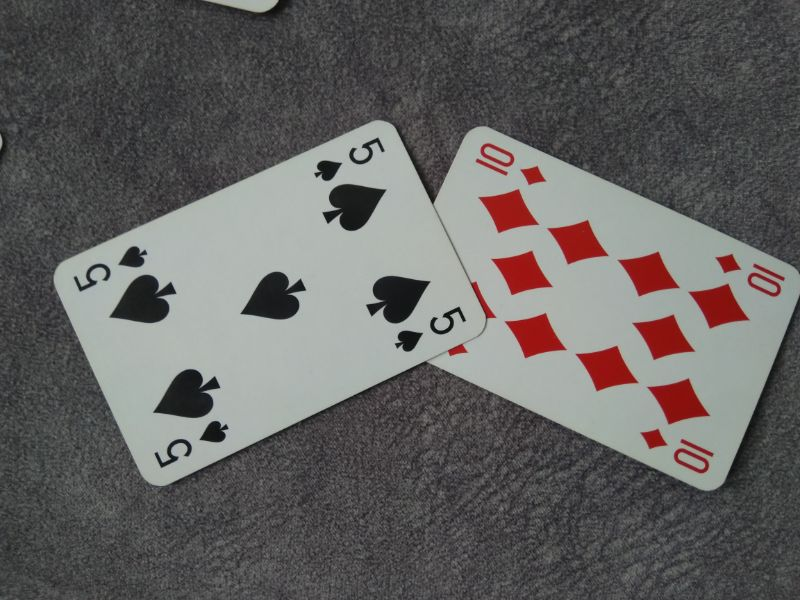5s: (70, 243, 150, 294), (309, 134, 391, 183), (391, 303, 469, 354), (152, 420, 231, 469)
Td: (471, 140, 552, 188), (639, 426, 715, 476), (714, 249, 787, 297)
